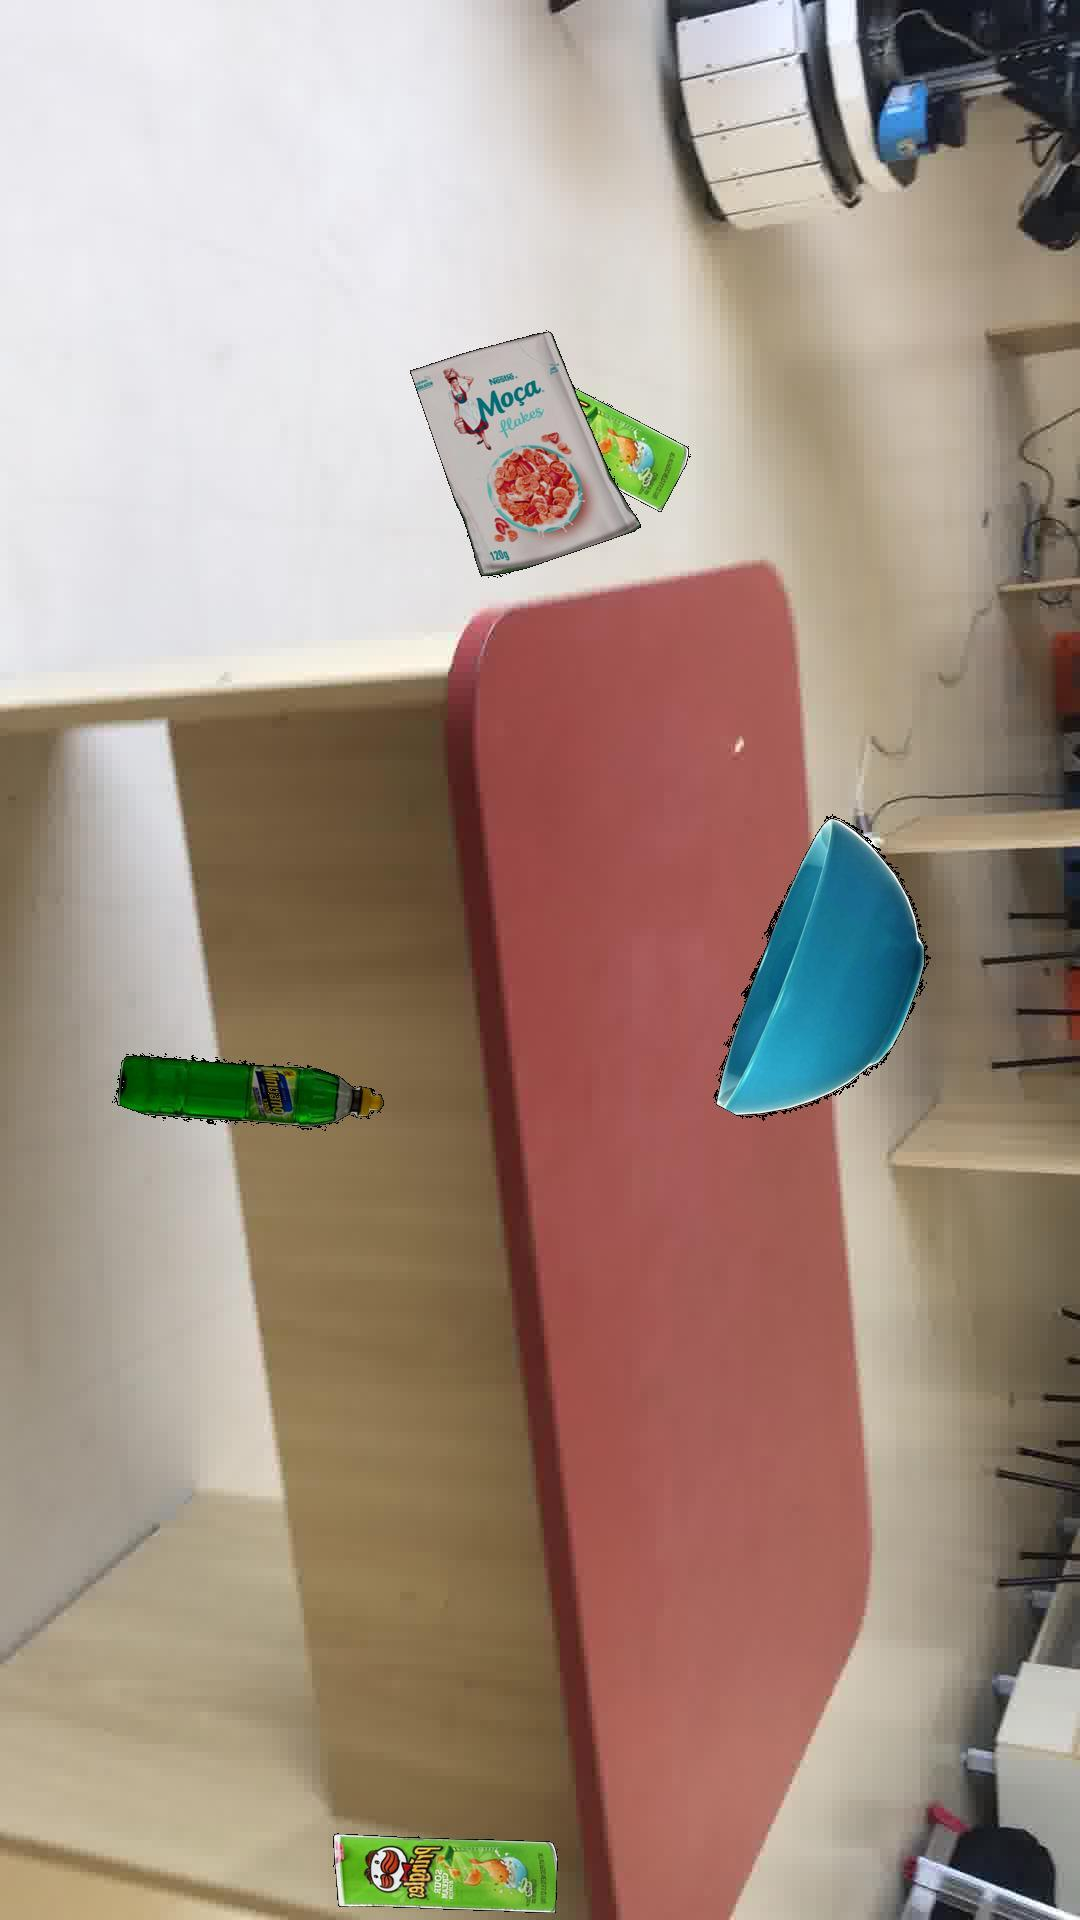bowl: (712, 815, 930, 1120)
cleaner: (113, 1052, 382, 1126)
corn flakes: (409, 330, 640, 575)
pringles: (331, 1832, 556, 1912), (574, 386, 690, 510)
